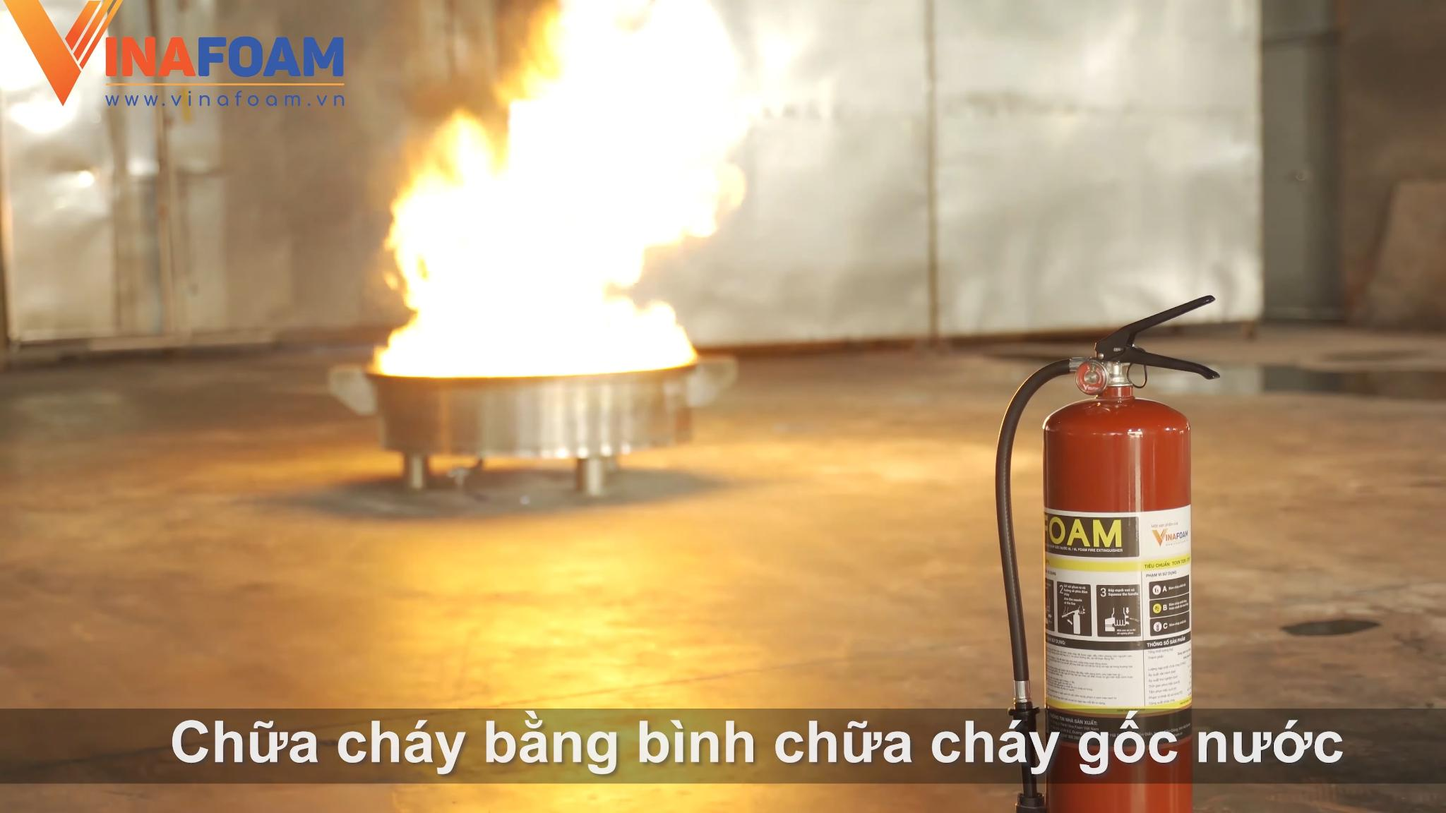FireExtinguisher: (992, 281, 1246, 813)
